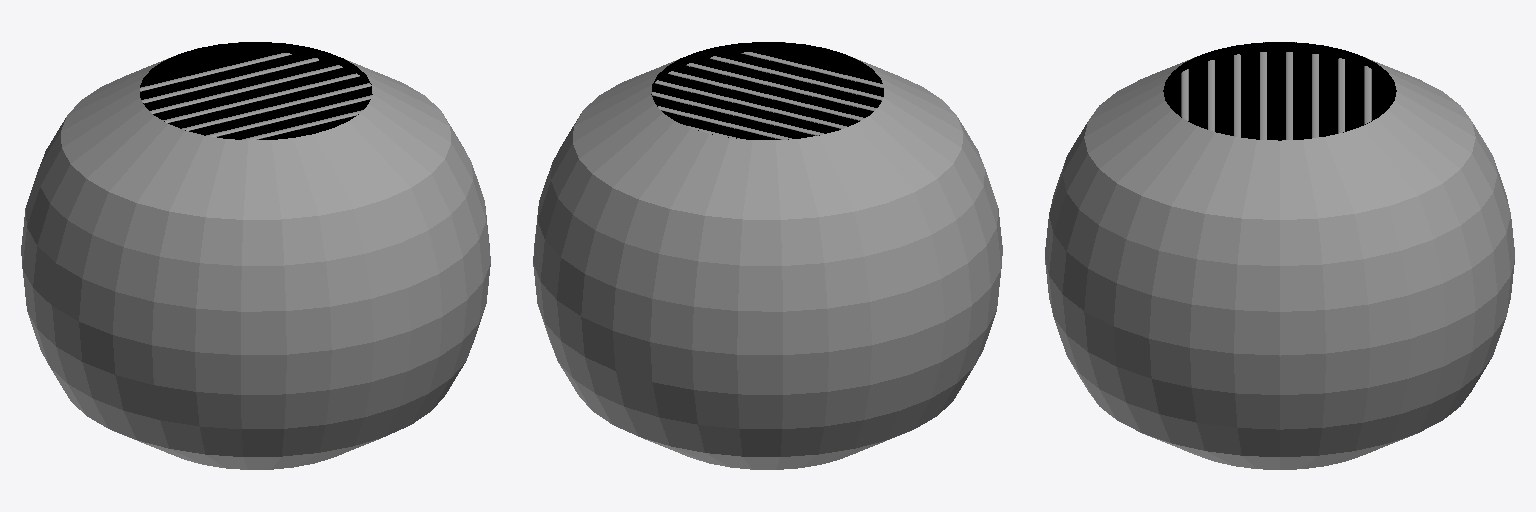
Rendered from spottwo.obj.
The picture shows the model from 3 angles: view 1: azimuth 30°, elevation 25°; view 2: azimuth 150°, elevation 25°; view 3: azimuth 270°, elevation 25°; orthographic projection.
Parts seen in each view (by area): view 1: Sphere; view 2: Sphere; view 3: Sphere.
Part boxes in pixels (bbox=[...]): Sphere: bbox=[21, 42, 490, 469]; Sphere: bbox=[533, 42, 1002, 469]; Sphere: bbox=[1045, 42, 1514, 469].
Bounding box in the file's own units: 2 × 1.54 × 2.